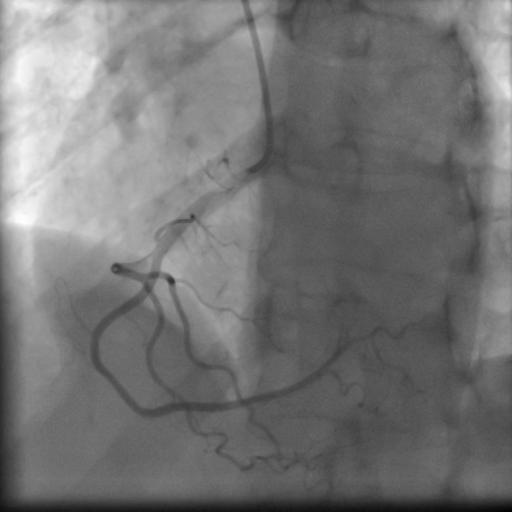Stenosis: (103, 361, 133, 407)
